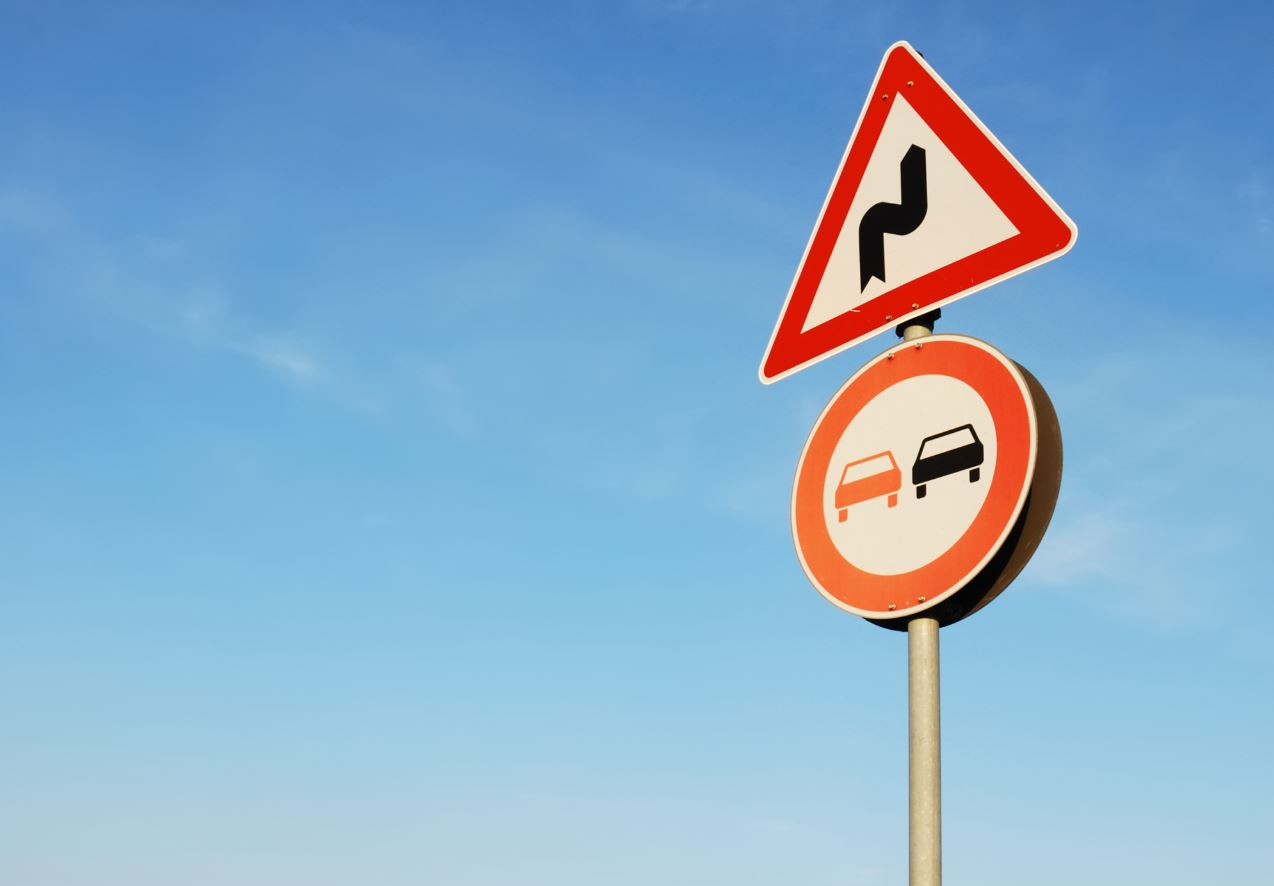Cartel: (753, 34, 1083, 381), (786, 333, 1068, 630)
Poste: (899, 613, 956, 886)
